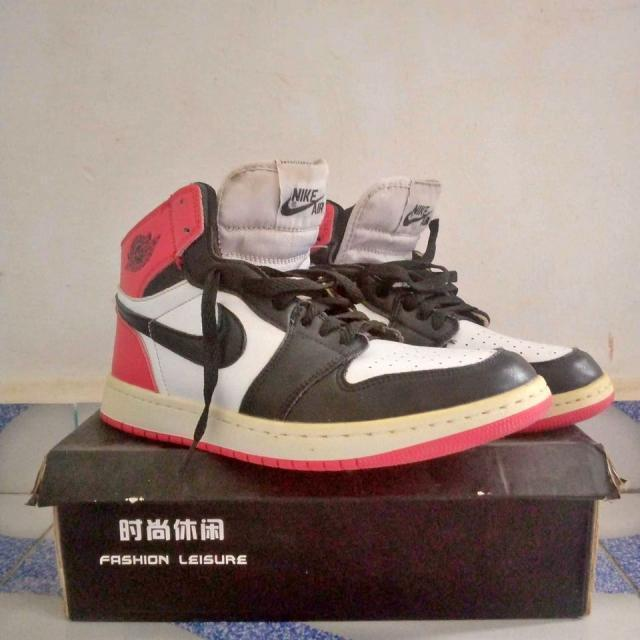nike fake jordan 1: (94, 155, 556, 476), (310, 178, 622, 434)
